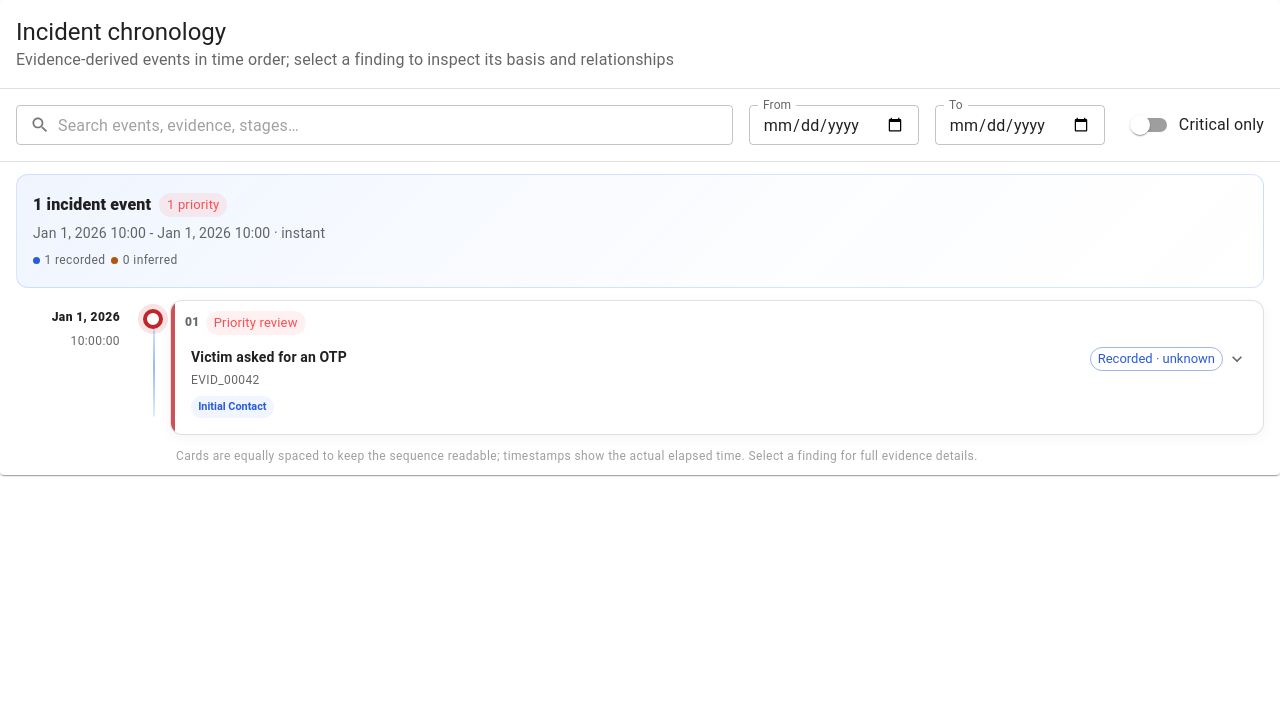
it: TimelineTab event details › opens the detail underneath the event, not beside it
Expected: the text "Why this is critical" is not shown
Expected: the text "Victim asked for an OTP" is shown once, [191, 348, 347, 364]
Click the button at (269, 357), box [185, 340, 1253, 424]
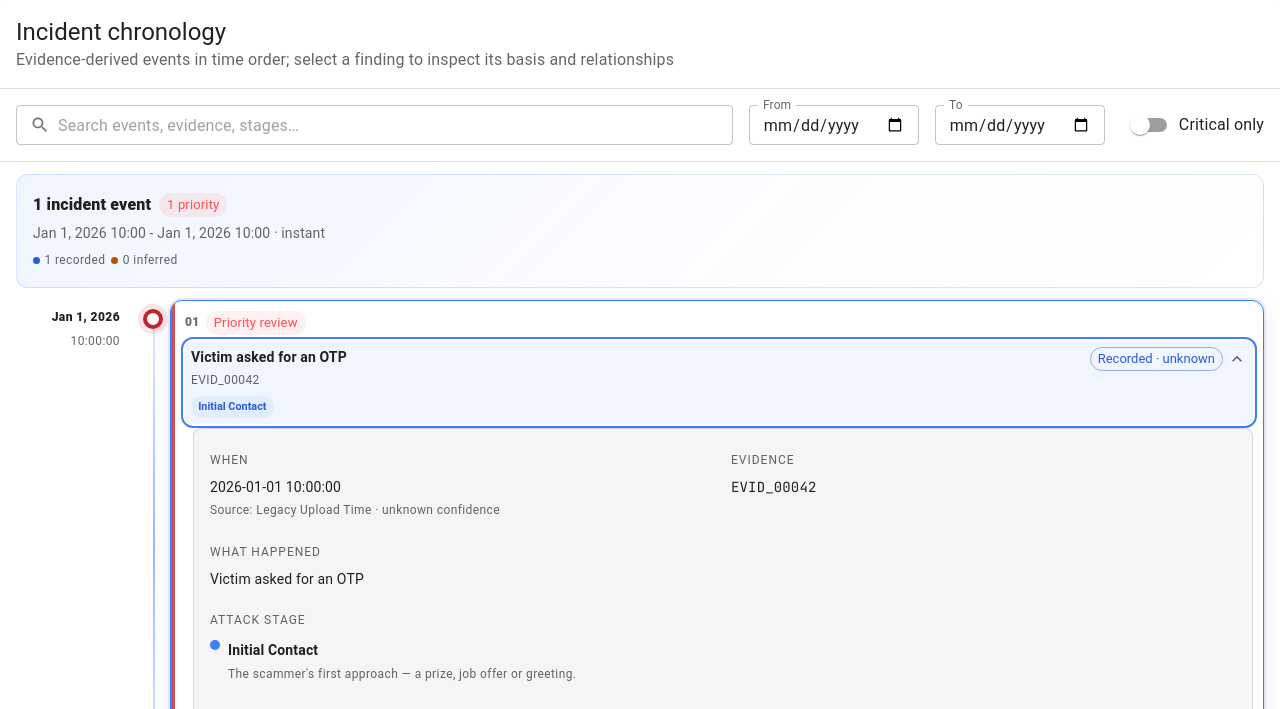
Expected: the button is expanded, [185, 340, 1253, 424]
